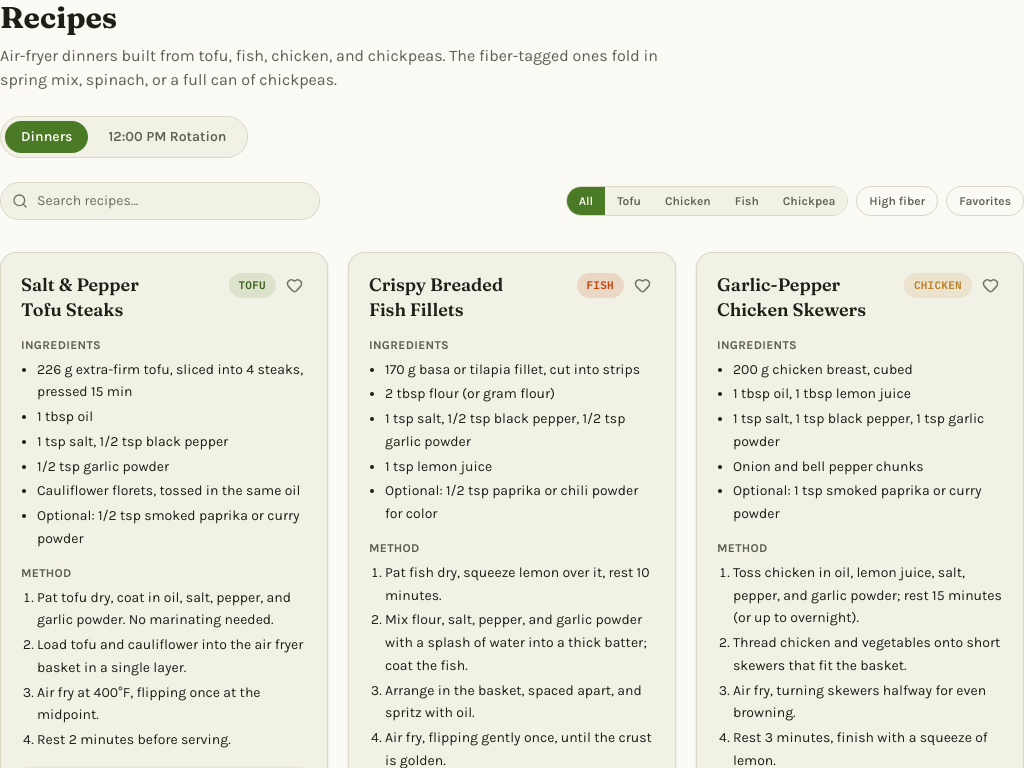
Recipes › filters by protein type
Click the button "fish" at x=747, y=201, box [723,187,771,215]
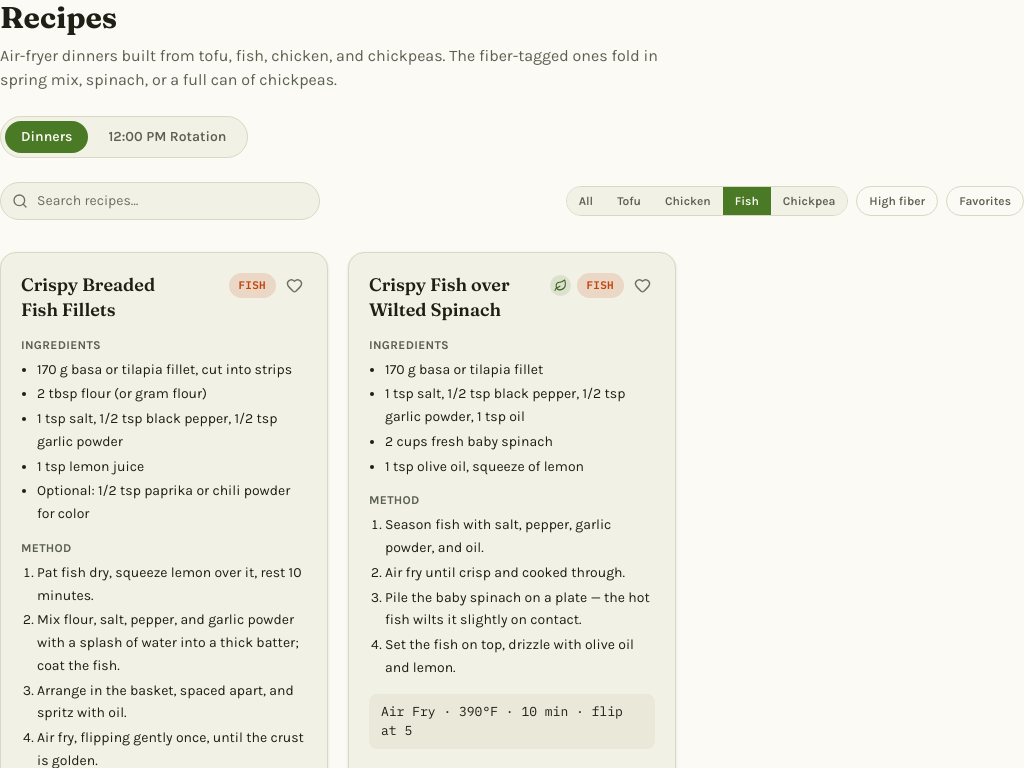
Expected: the heading "Crispy Breaded Fish Fillets" is shown, [21,273,155,321]
Now the heading "Salt & Pepper Tofu Steaks" is gone
